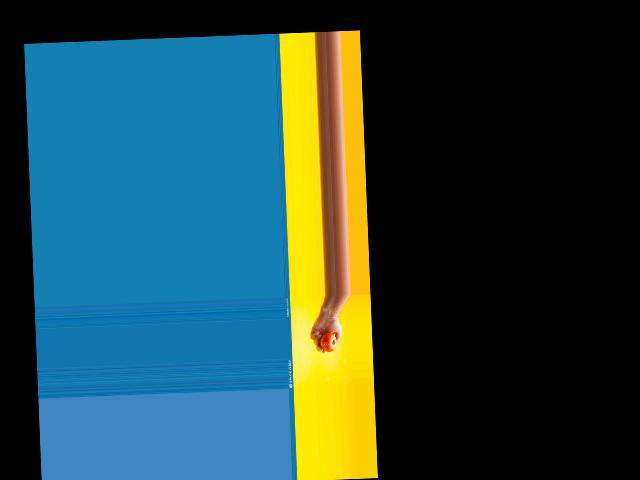tomato: (319, 332, 336, 351)
